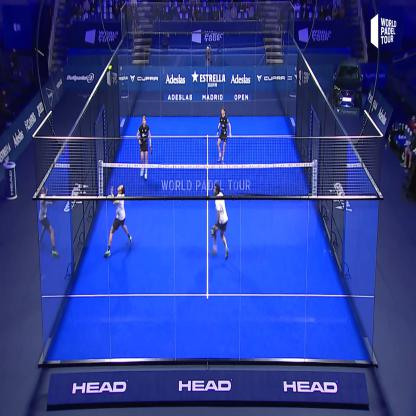ball: (106, 63, 115, 75)
